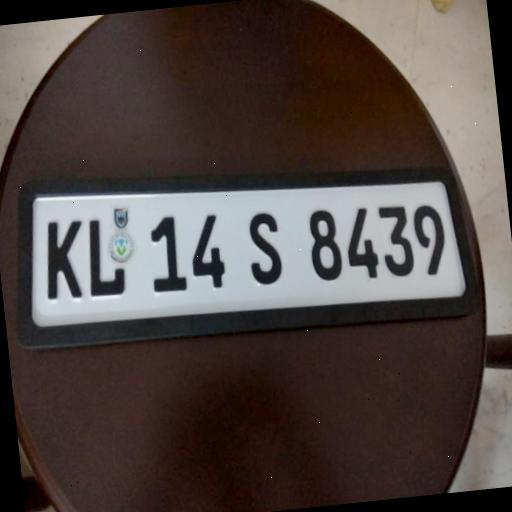number plate: (27, 156, 471, 344)
